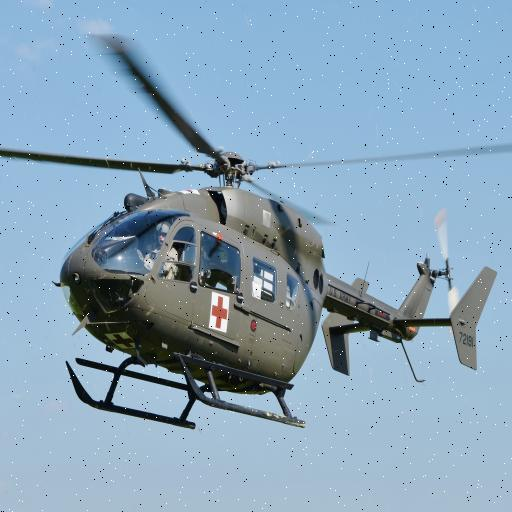helicopter: (1, 36, 501, 433)
